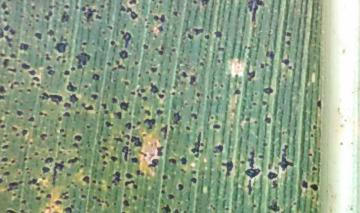tarspot: (275, 142, 295, 174), (79, 3, 105, 27), (244, 1, 266, 26), (243, 150, 260, 180), (190, 130, 206, 159), (50, 162, 64, 185), (74, 52, 91, 70), (38, 91, 61, 104), (91, 193, 109, 209), (119, 29, 134, 48), (220, 160, 236, 177), (243, 179, 256, 199), (266, 197, 282, 213), (243, 67, 258, 82), (159, 124, 170, 144), (142, 118, 157, 132), (121, 144, 131, 165), (170, 110, 181, 128), (7, 181, 25, 192), (18, 41, 32, 55), (54, 41, 69, 54), (129, 135, 145, 147), (59, 9, 71, 25), (211, 143, 224, 157), (64, 80, 78, 92), (67, 92, 81, 104), (191, 26, 206, 37), (265, 48, 277, 61), (42, 9, 53, 23), (124, 180, 139, 190), (109, 171, 121, 183), (45, 65, 57, 77), (15, 107, 25, 121), (158, 204, 173, 213), (211, 122, 223, 133), (147, 157, 159, 168), (149, 82, 160, 94), (118, 48, 129, 60), (118, 100, 130, 111), (72, 133, 85, 143), (66, 155, 79, 165), (188, 73, 197, 87), (5, 66, 19, 75), (38, 130, 49, 141), (115, 60, 126, 71), (82, 104, 94, 114), (123, 122, 135, 132), (213, 31, 226, 40), (155, 144, 164, 157), (125, 1, 141, 8), (310, 183, 321, 193), (154, 46, 165, 56), (33, 30, 43, 41), (43, 155, 53, 166), (301, 178, 310, 190), (112, 135, 124, 144), (61, 190, 70, 202), (179, 69, 189, 79), (179, 156, 189, 166), (125, 172, 135, 182), (262, 86, 273, 95), (267, 172, 278, 181), (232, 88, 243, 97), (189, 112, 200, 121), (103, 120, 114, 129), (199, 1, 212, 8), (4, 206, 17, 213), (310, 164, 319, 174), (216, 46, 226, 55), (168, 157, 177, 167), (91, 74, 101, 83), (110, 96, 119, 106), (89, 93, 99, 102), (61, 110, 71, 119), (129, 156, 139, 165), (110, 155, 120, 164), (20, 61, 29, 71), (2, 22, 11, 32), (263, 116, 274, 124), (1, 1, 9, 12), (29, 2, 37, 13), (114, 110, 122, 121), (175, 183, 187, 190), (62, 206, 74, 213), (1, 27, 7, 41), (149, 64, 158, 73), (46, 28, 55, 37), (41, 166, 50, 175), (279, 72, 288, 81), (151, 14, 159, 24), (159, 14, 167, 24), (27, 113, 35, 123), (54, 198, 62, 208), (43, 52, 51, 62), (2, 58, 10, 68), (156, 108, 164, 118), (37, 110, 47, 118), (82, 175, 89, 186), (284, 30, 293, 38), (188, 177, 200, 183), (161, 173, 170, 181), (62, 68, 71, 76), (172, 10, 180, 19), (131, 194, 140, 202), (27, 177, 35, 186), (27, 69, 36, 77), (9, 52, 18, 60), (110, 199, 118, 208), (208, 202, 216, 211), (122, 200, 132, 207), (1, 84, 8, 94), (105, 184, 115, 191), (315, 98, 321, 109), (282, 58, 290, 66), (264, 61, 272, 69), (270, 180, 278, 188), (167, 193, 175, 201), (118, 5, 126, 13), (141, 43, 149, 51), (157, 25, 165, 33), (108, 39, 116, 47), (10, 125, 18, 133), (4, 34, 12, 42), (6, 41, 14, 49), (9, 158, 17, 166), (66, 170, 74, 178), (144, 109, 152, 117), (243, 115, 251, 123), (311, 123, 318, 132), (170, 46, 177, 55), (123, 80, 132, 87), (62, 101, 71, 108), (62, 2, 71, 9), (134, 168, 141, 177), (122, 193, 131, 200), (20, 128, 27, 137), (1, 155, 8, 164), (2, 9, 11, 16), (36, 82, 45, 89), (105, 24, 114, 31), (130, 11, 136, 21), (233, 73, 239, 83), (287, 63, 295, 70), (306, 151, 314, 158), (257, 154, 265, 161), (186, 33, 194, 40), (159, 188, 167, 195), (82, 83, 90, 90), (45, 191, 52, 199), (34, 195, 42, 202), (56, 148, 63, 156), (1, 143, 9, 150), (100, 102, 108, 109), (105, 61, 113, 68), (80, 40, 87, 48), (12, 80, 20, 87), (60, 58, 68, 65), (261, 141, 268, 149), (284, 40, 293, 46), (260, 62, 266, 71), (190, 169, 199, 175), (32, 151, 41, 157), (59, 133, 68, 139), (1, 121, 7, 130), (55, 55, 64, 61), (195, 91, 202, 98), (184, 125, 191, 132), (173, 206, 180, 213), (158, 93, 165, 100), (56, 116, 63, 123), (139, 87, 146, 94), (96, 186, 103, 193), (29, 80, 36, 87), (4, 109, 11, 116), (261, 100, 268, 107), (148, 8, 155, 15), (291, 200, 299, 206), (170, 90, 176, 98), (69, 203, 77, 209), (2, 170, 10, 176), (85, 123, 91, 131), (152, 34, 160, 40), (101, 160, 109, 166), (101, 145, 109, 151), (19, 81, 27, 87), (136, 119, 142, 127), (157, 1, 166, 6), (100, 164, 105, 173), (309, 132, 316, 138), (239, 160, 246, 166), (204, 33, 211, 39), (216, 58, 223, 64), (198, 61, 205, 67), (70, 66, 77, 72), (126, 7, 133, 13), (17, 143, 23, 150), (47, 146, 53, 153), (59, 127, 65, 134), (1, 95, 8, 101), (1, 133, 8, 139), (34, 18, 41, 24), (102, 109, 109, 115), (136, 72, 142, 79), (251, 100, 257, 107), (80, 194, 87, 200), (96, 140, 103, 146), (17, 88, 24, 94), (101, 30, 108, 36), (253, 90, 259, 97), (142, 95, 147, 103), (18, 208, 26, 213), (20, 198, 26, 204), (56, 140, 62, 146), (130, 90, 136, 96), (31, 76, 40, 80), (145, 23, 151, 29), (143, 16, 149, 22), (191, 1, 198, 6), (133, 61, 140, 66), (101, 137, 108, 142), (100, 154, 105, 161), (25, 88, 32, 93), (40, 176, 47, 181), (251, 203, 258, 208), (35, 187, 42, 192), (139, 105, 146, 110), (28, 108, 35, 113), (1, 177, 4, 188), (219, 82, 223, 90), (179, 90, 184, 96), (139, 172, 145, 177), (15, 132, 20, 138), (61, 144, 66, 150), (91, 179, 96, 185), (105, 152, 111, 157), (23, 156, 27, 163), (253, 120, 260, 124), (161, 183, 166, 188), (97, 180, 102, 185), (36, 182, 41, 187), (150, 1, 157, 4), (97, 148, 102, 152), (137, 93, 140, 99), (40, 188, 43, 194)
